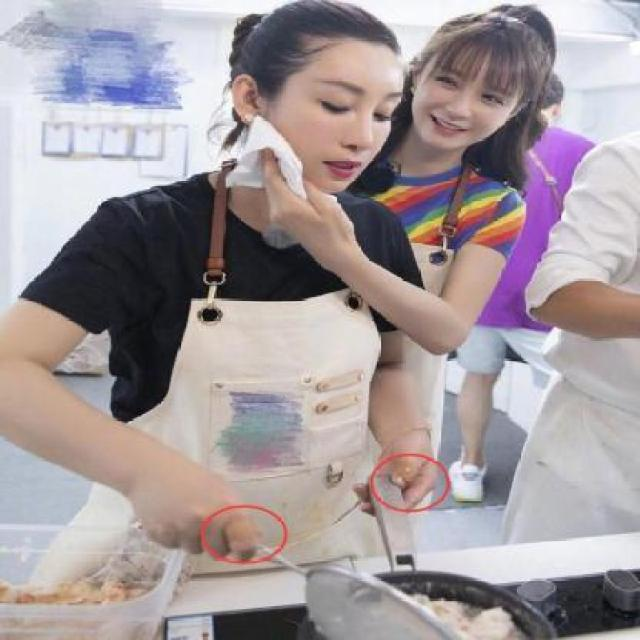face_nomask: (289, 60, 397, 188), (417, 58, 503, 154)
hand_noglove: (128, 483, 260, 563), (257, 149, 352, 248), (352, 446, 440, 520)
head_nohelmet: (213, 0, 401, 78), (432, 9, 565, 77)
person: (48, 16, 412, 570), (394, 2, 554, 520)
